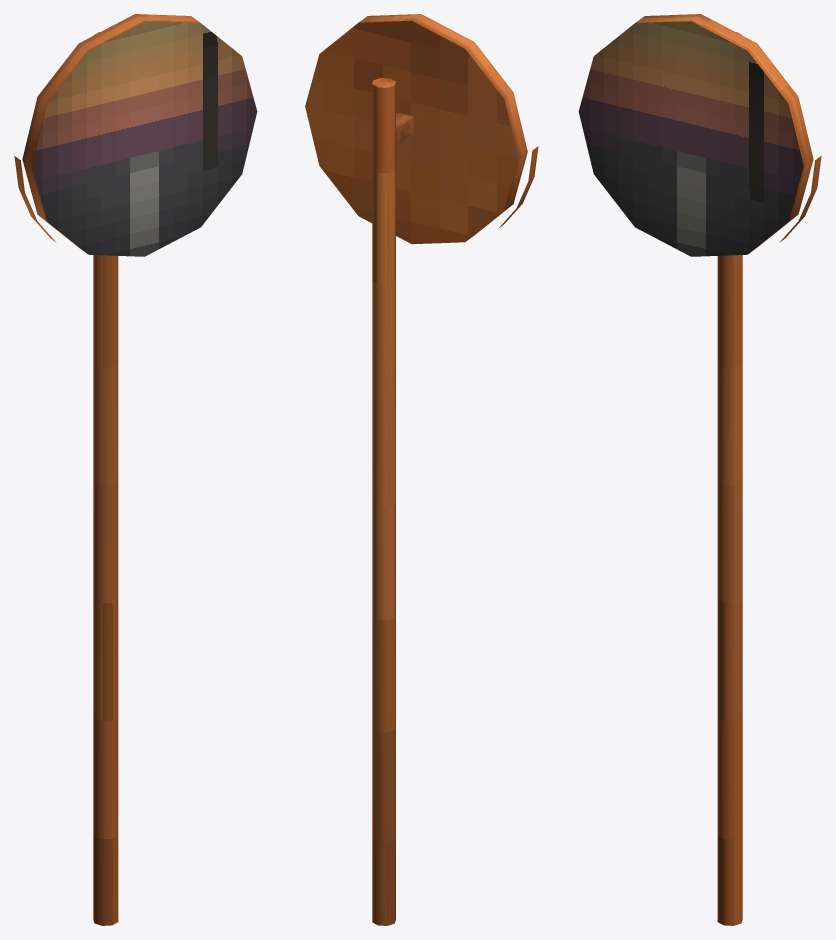
File: curve_mirror.glb
3 views of the same model, side by side, from view 1: azimuth 30°, elevation 25°; view 2: azimuth 150°, elevation 25°; view 3: azimuth 330°, elevation 25° (orthographic). The views are drawn at different scales.
Parts seen in each view (by area): view 1: curve_mirror; view 2: curve_mirror; view 3: curve_mirror.
Part boxes in pixels (box(x1,y1,x2,y2)): curve_mirror: box(14, 14, 257, 925); curve_mirror: box(305, 14, 538, 925); curve_mirror: box(578, 14, 821, 925).
Bounding box in the file's own units: 0.88 × 3.15 × 0.28.
Materials: 1 (1 with a texture image).
